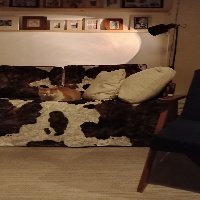asleep: (38, 84, 82, 101)
